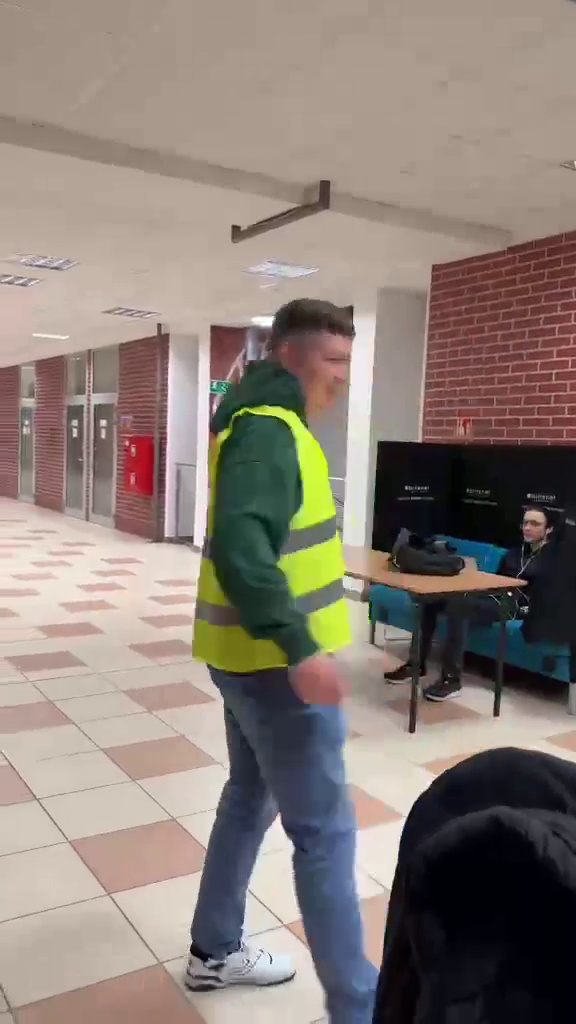no vest: (433, 500, 570, 662)
vest: (189, 292, 390, 1001)
